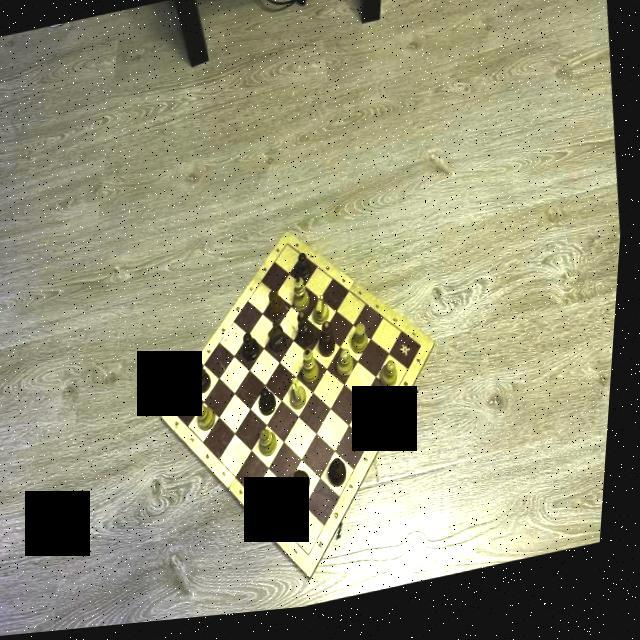chess-table-corners: (314, 557, 320, 565), (288, 246, 293, 252), (176, 412, 181, 418), (423, 352, 428, 356)
